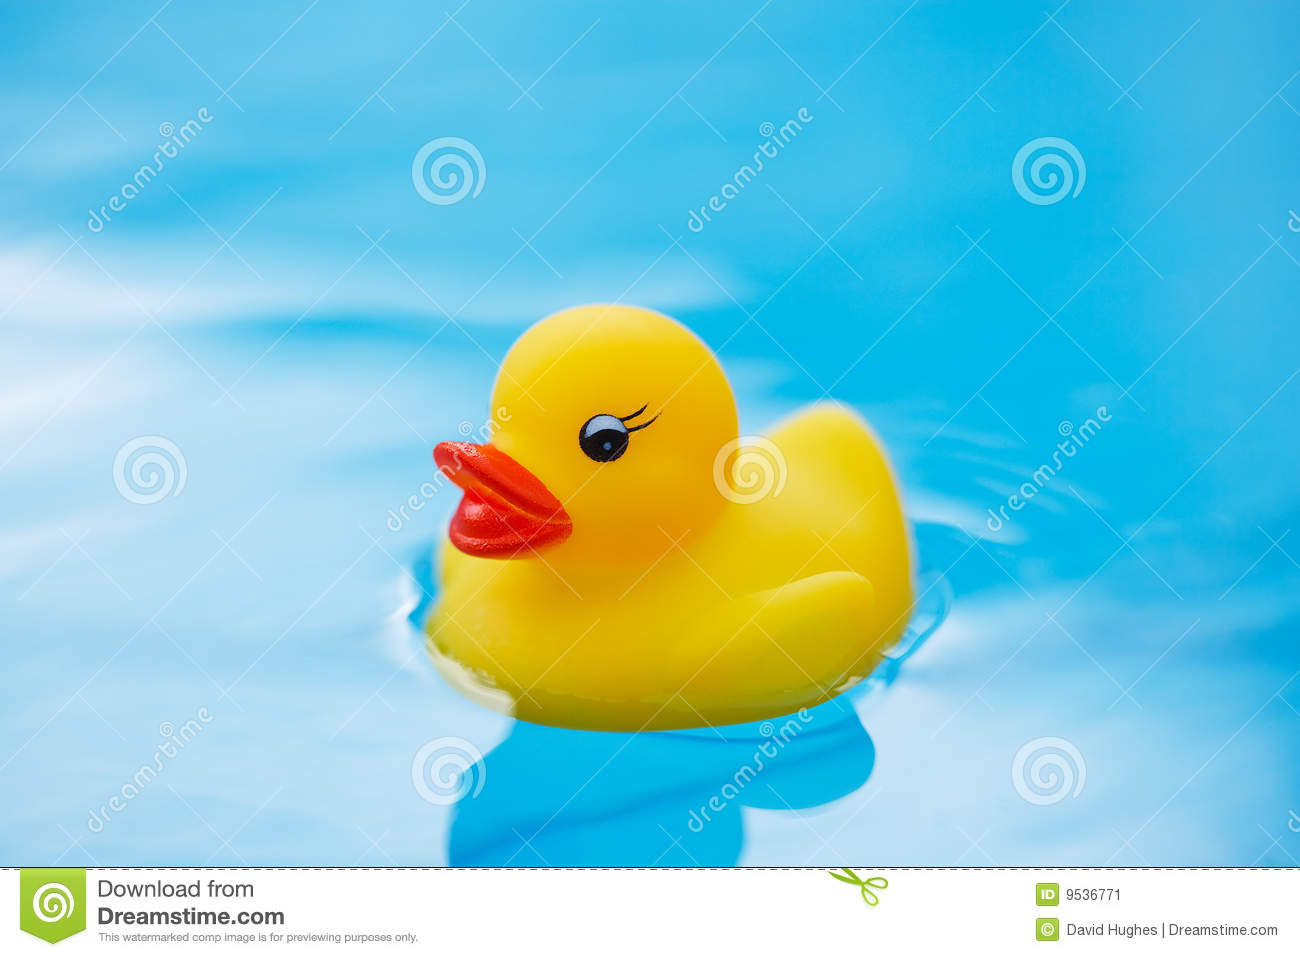Duck: (421, 291, 929, 739)
